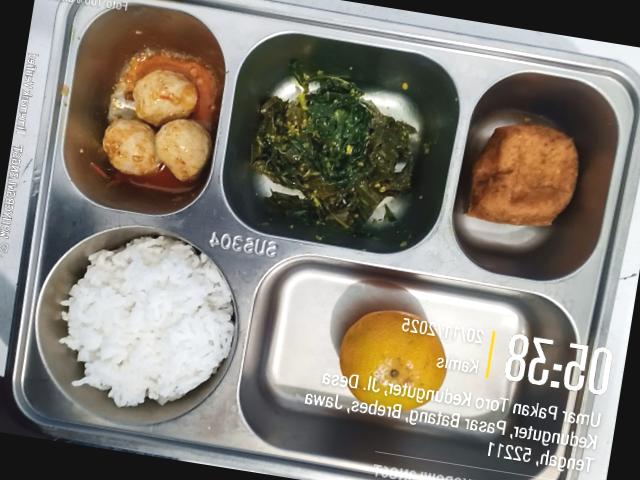bakso: (97, 48, 220, 184)
buah: (339, 311, 445, 410)
nasi: (59, 236, 234, 407)
sayur: (250, 61, 416, 233)
tahu: (467, 124, 578, 225)
